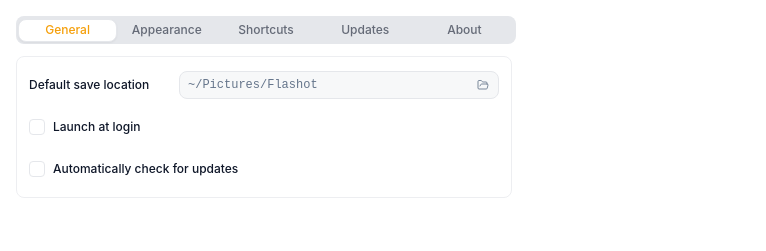
Test: SettingsRoute › shows conflict info when shortcut settings duplicate each other
Click the tab "Shortcuts" at (266, 30), box [216,18,316,42]
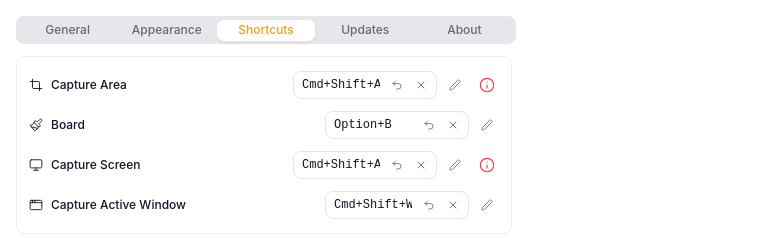
Result: the picture named "Capture Area conflicts with Capture Screen" is shown
Result: the picture named "Capture Screen conflicts with Capture Area" is shown at [479,157,495,173]
Hover over the picture named "Capture Area conflicts with Capture Screen" at (487, 85), box [479,77,495,93]
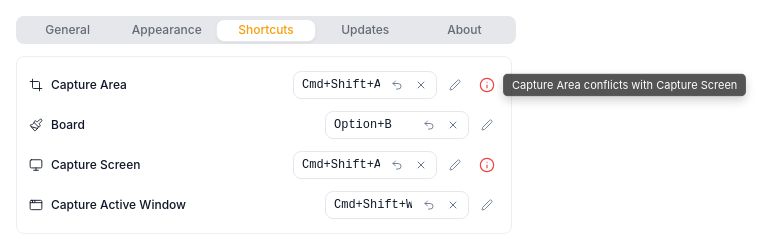
Result: the tooltip reads "Capture Area conflicts with Capture Screen" at [512,78,737,92]
